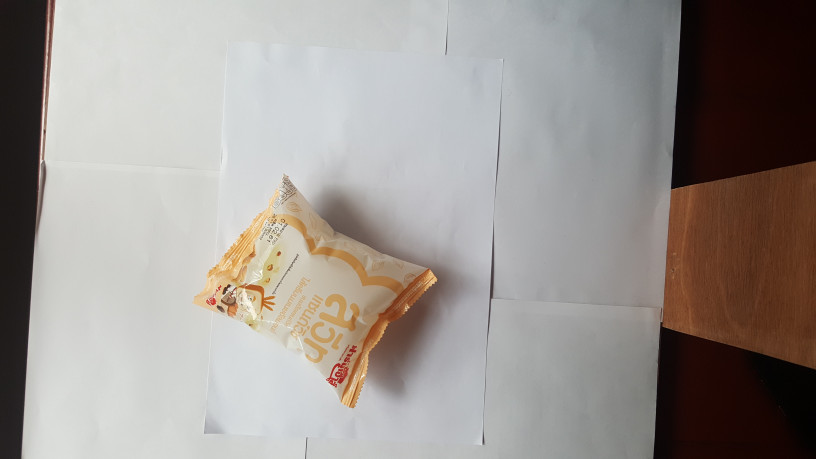farmhouse-sweetsandwich-almond: (185, 171, 450, 414)
